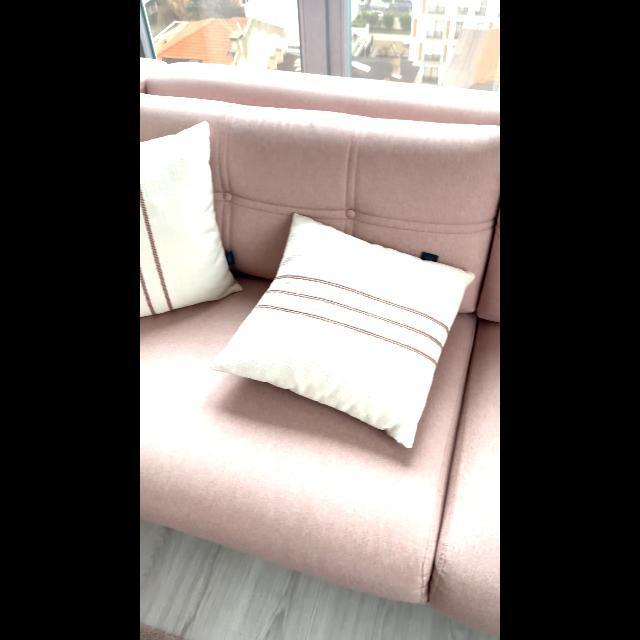throw pillow: (219, 204, 481, 458), (140, 111, 224, 337)
